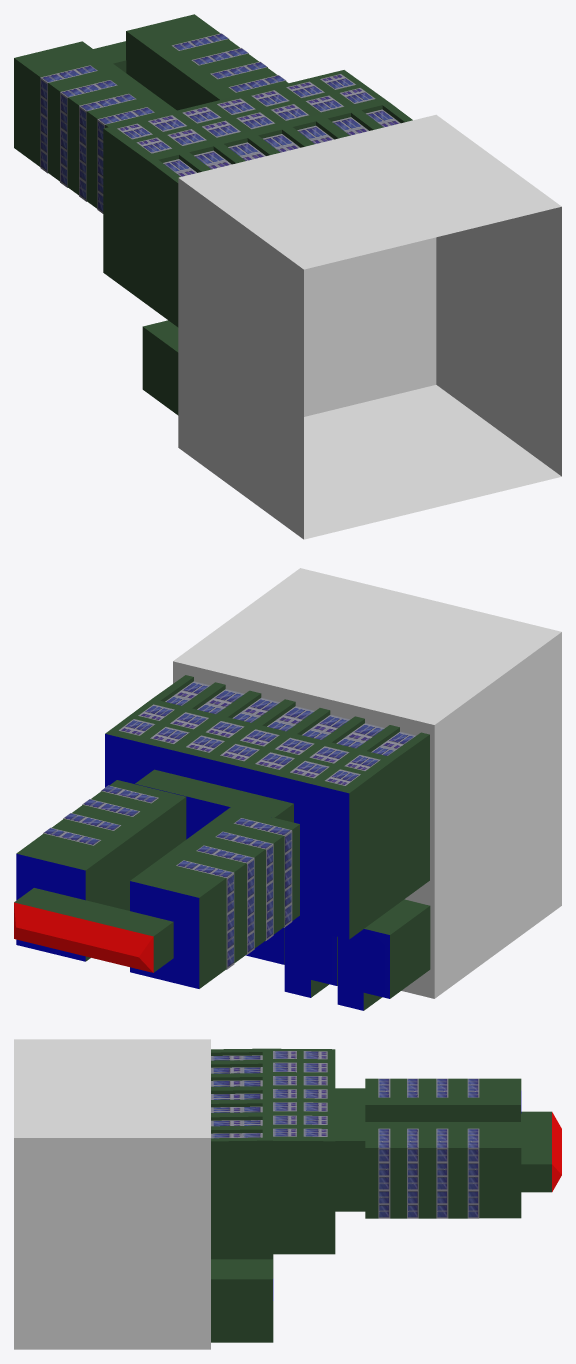
File: block_mixed_01.FBX
The picture shows the model from 3 angles, top to bottom: view 1: azimuth 30°, elevation 25°; view 2: azimuth 150°, elevation 25°; view 3: azimuth 270°, elevation 25°; orthographic projection. The views are drawn at different scales.
Visible parts, largest first — view 1: Plane002, Box956, Box1037, Object082; view 2: Plane002, Box1037, Box956, Object082, Object083, Object084; view 3: Plane002, Box1037, Box956, Object085, Object084.
Part boxes in pixels (x1,y1,x2,y2): Plane002: [178, 114, 561, 539]; Box956: [103, 70, 412, 327]; Box1037: [14, 14, 288, 213]; Object082: [142, 320, 178, 415]; Plane002: [173, 568, 561, 998]; Box1037: [14, 769, 299, 988]; Box956: [105, 675, 429, 939]; Object082: [337, 899, 430, 1010]; Object083: [284, 925, 337, 997]; Object084: [245, 927, 284, 964]; Plane002: [14, 1039, 210, 1349]; Box1037: [335, 1078, 561, 1218]; Box956: [211, 1048, 335, 1254]; Object085: [211, 1259, 273, 1342]; Object084: [211, 1254, 273, 1278].
Bounding box in the file's own units: 30 × 30 × 70.44.
